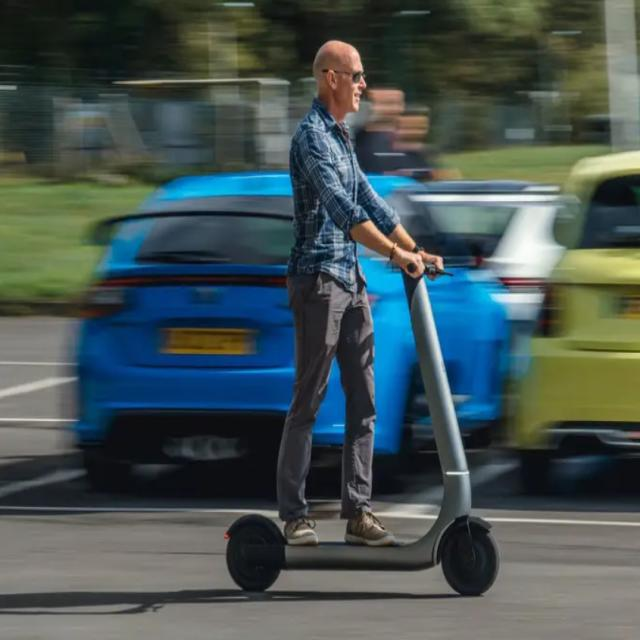non-helmet: (226, 32, 504, 616)
